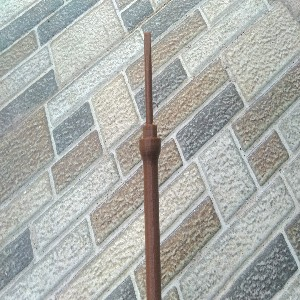obeng: (138, 32, 162, 300)
